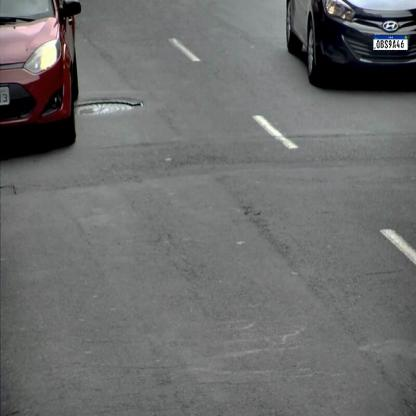PlacaM: (373, 34, 408, 50)
